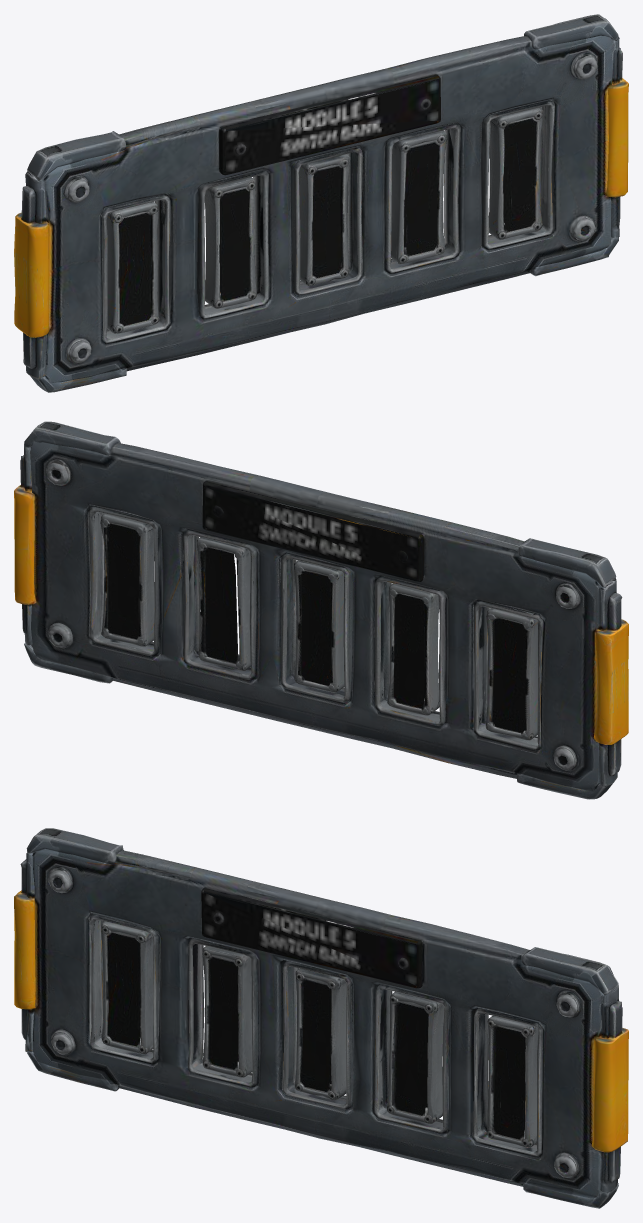
File: SwitchBox.glb
3 renders of one model, top to bottom at view 1: azimuth 30°, elevation 25°; view 2: azimuth 150°, elevation 25°; view 3: azimuth 330°, elevation 25°, orthographic.
Size of the model in its own units: 1 by 0.3848 by 0.0669.
1 material, 1 textured.
